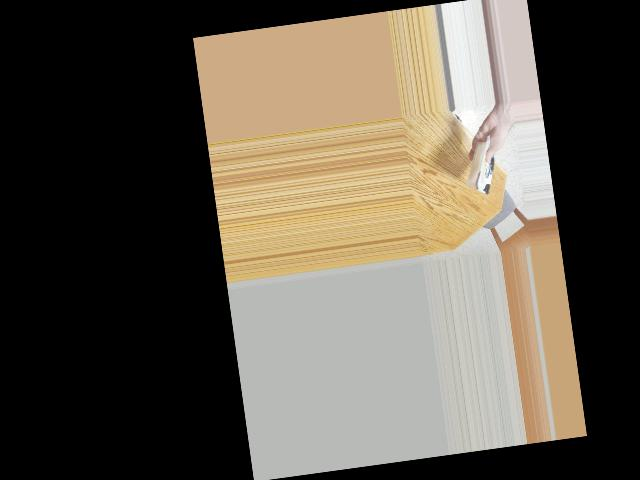cheese: (459, 138, 508, 194)
